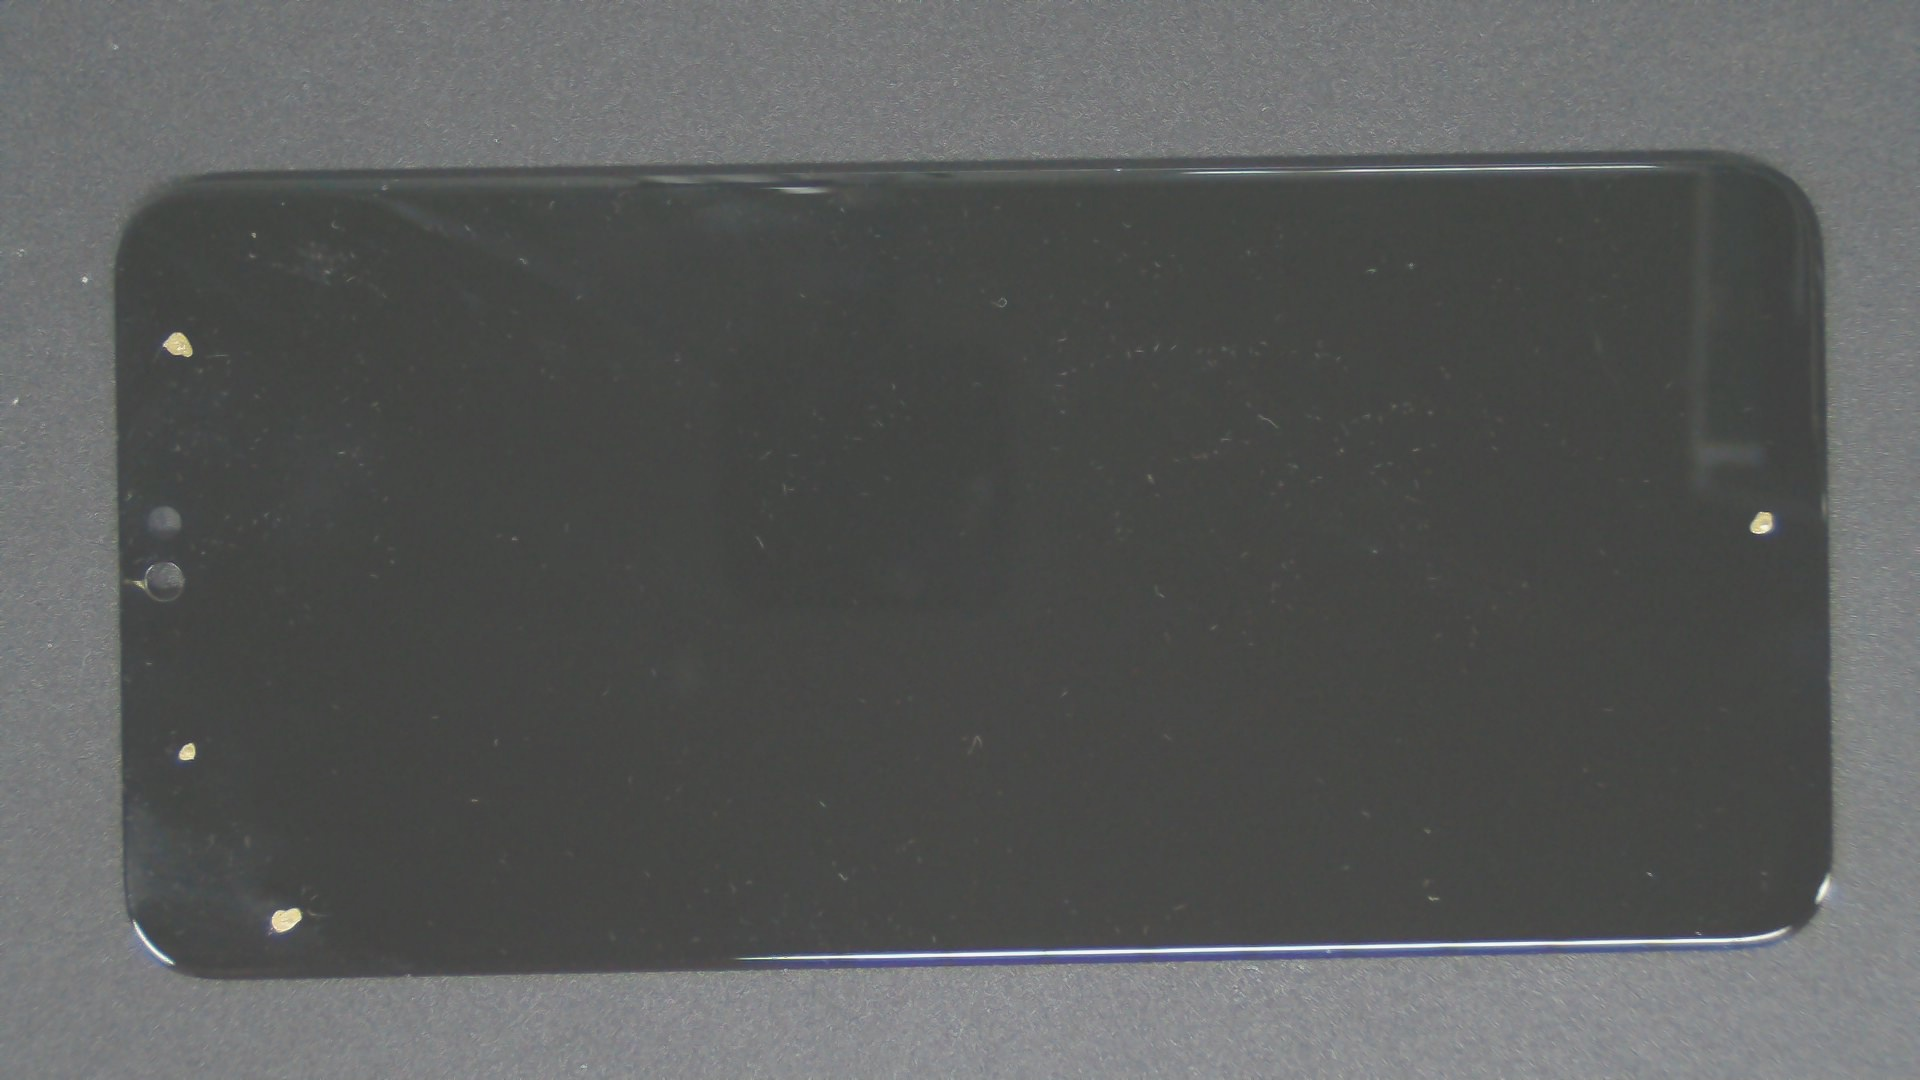oil: (878, 255, 1920, 767), (149, 452, 443, 1080), (95, 371, 284, 1080), (87, 165, 261, 497)
